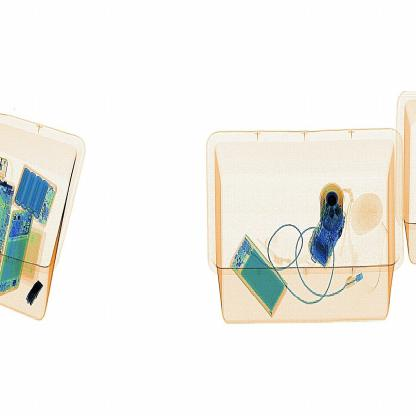scissors: (22, 278, 50, 305)
